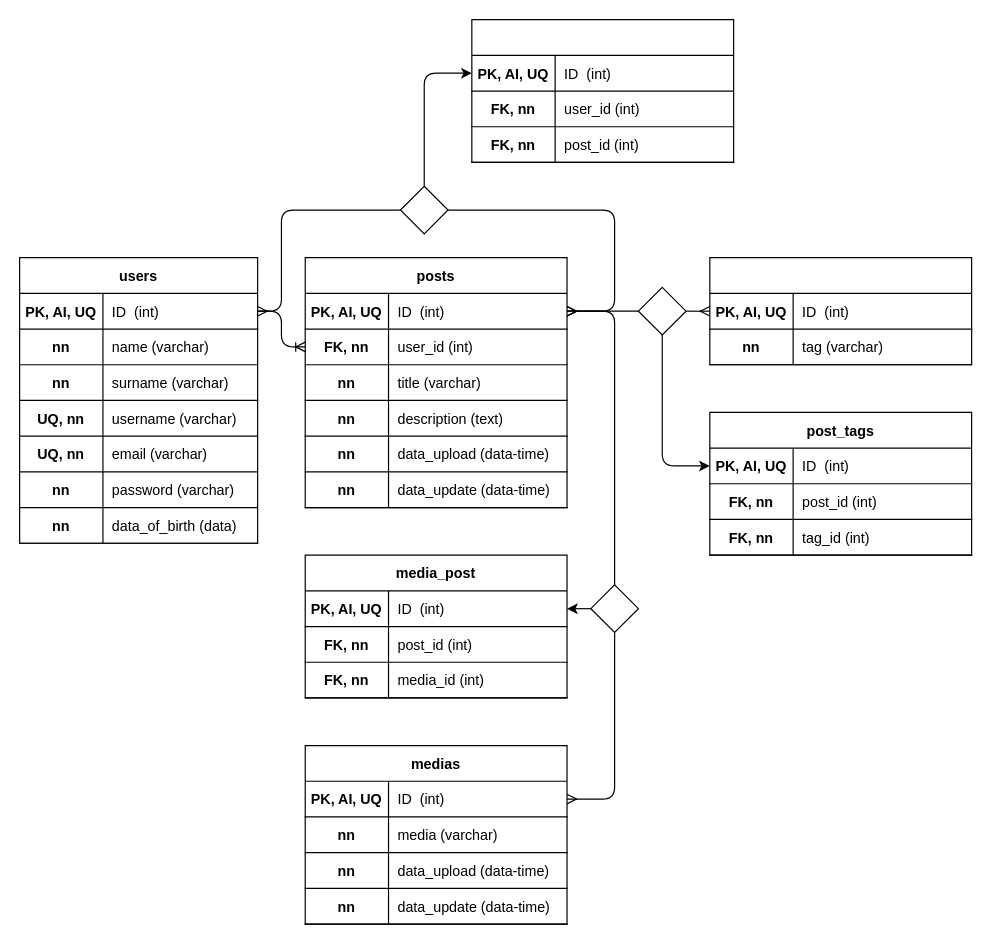
The diagram is 991 pixels wide and 944 high, and some of its shapes have lost their labels. Each missing label, with the box of its shape:
likes: (471, 18, 734, 162)
tags: (709, 256, 972, 365)
